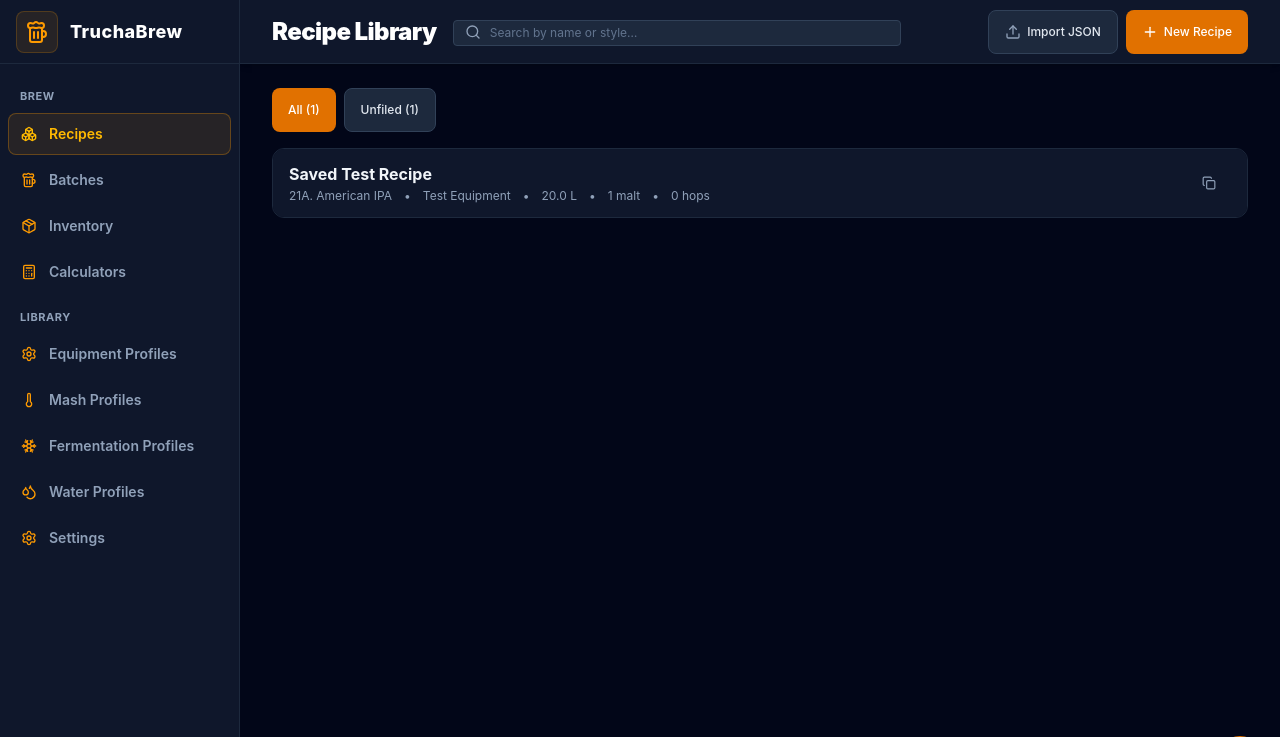
Test: AC-8: the "Brew This" control › (a) exists in the editor header, reachable once a saved recipe is open
Step 1. Click the text "Saved Test Recipe" → [360, 174], box [289,164,432,184]
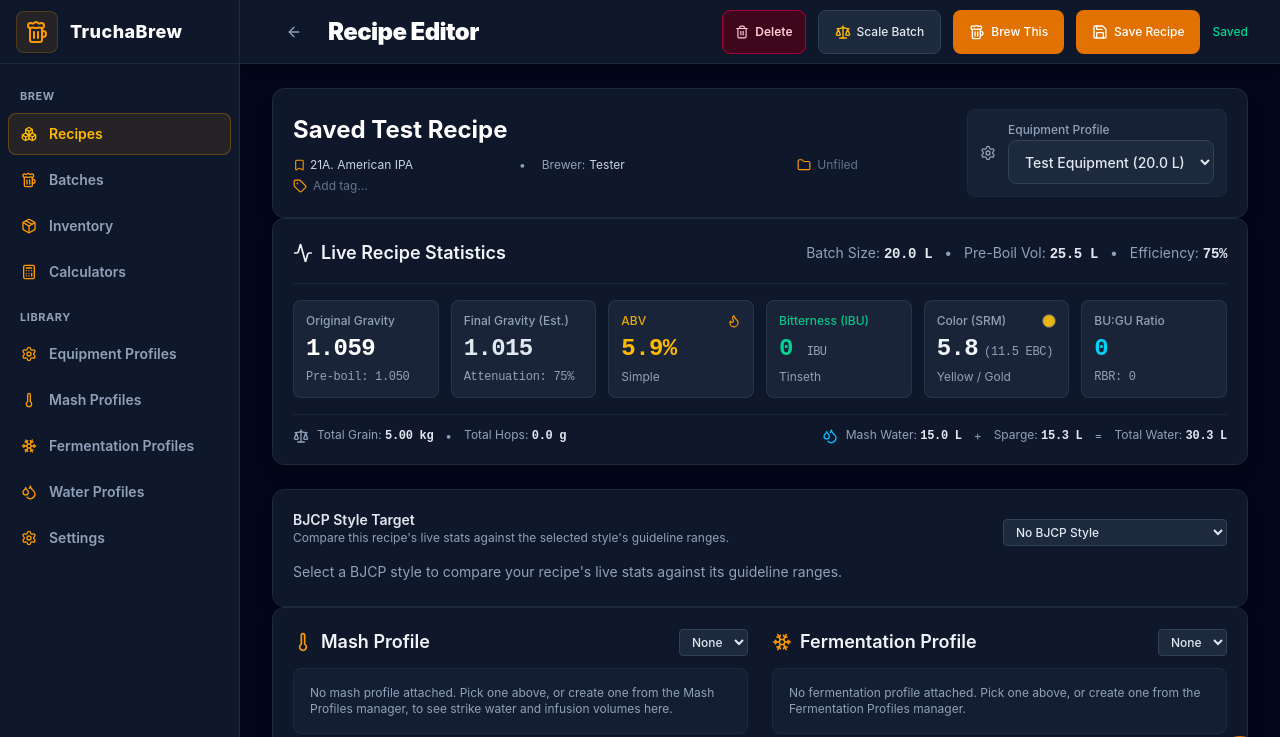
Result: the button "Brew This" is shown at [953,10,1064,54]
